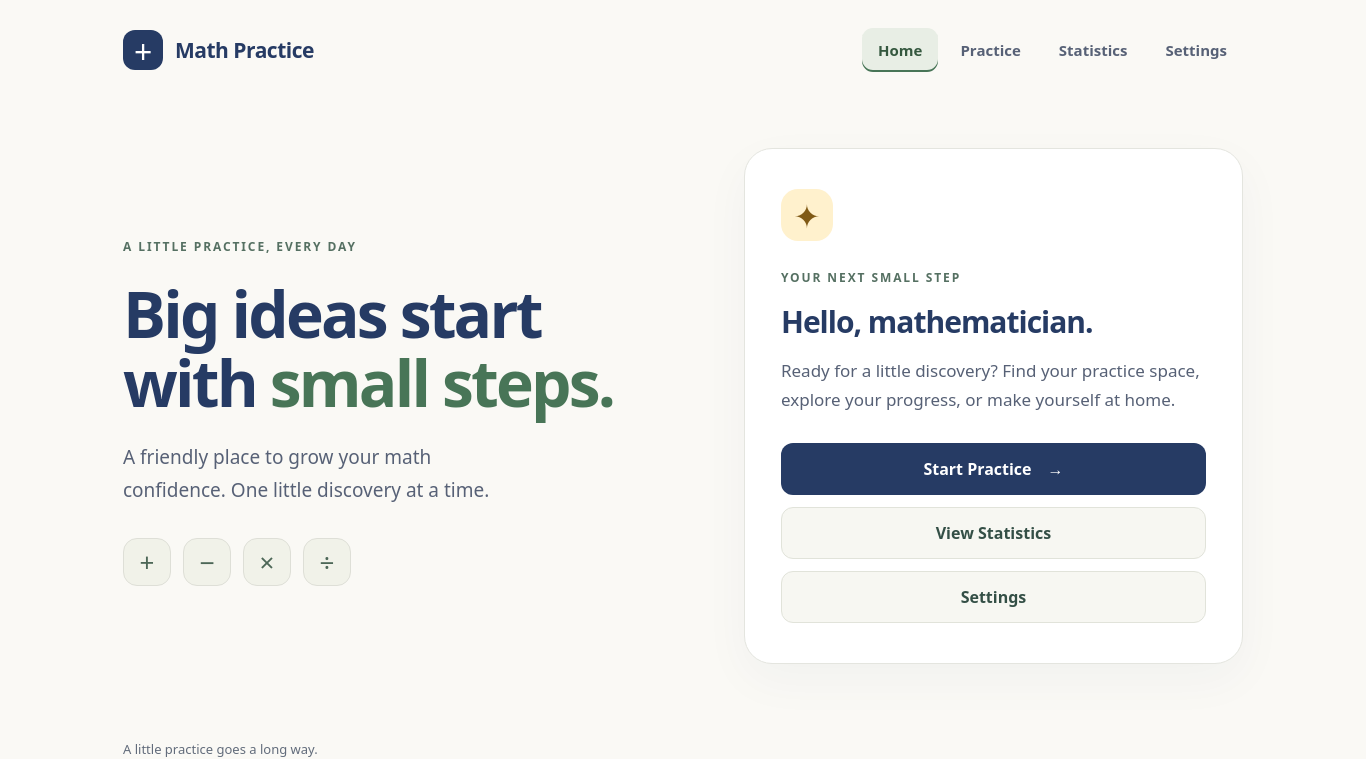
Phase 2 pages and navigation › opens the correct page from the home action Start Practice
Click the link "Start Practice →" at [993, 469], box [781,443,1206,495]
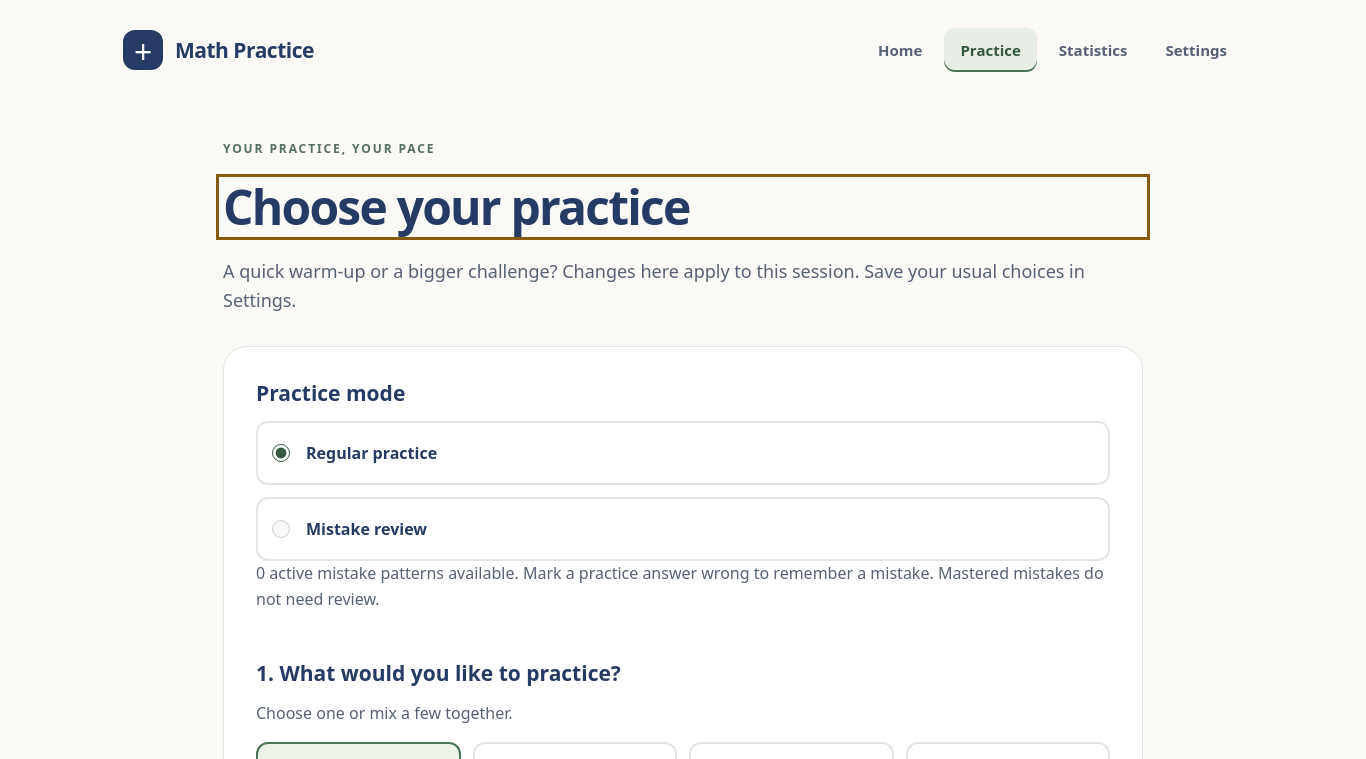
Now the heading "Choose your practice" is shown, box [223,174,690,239]
